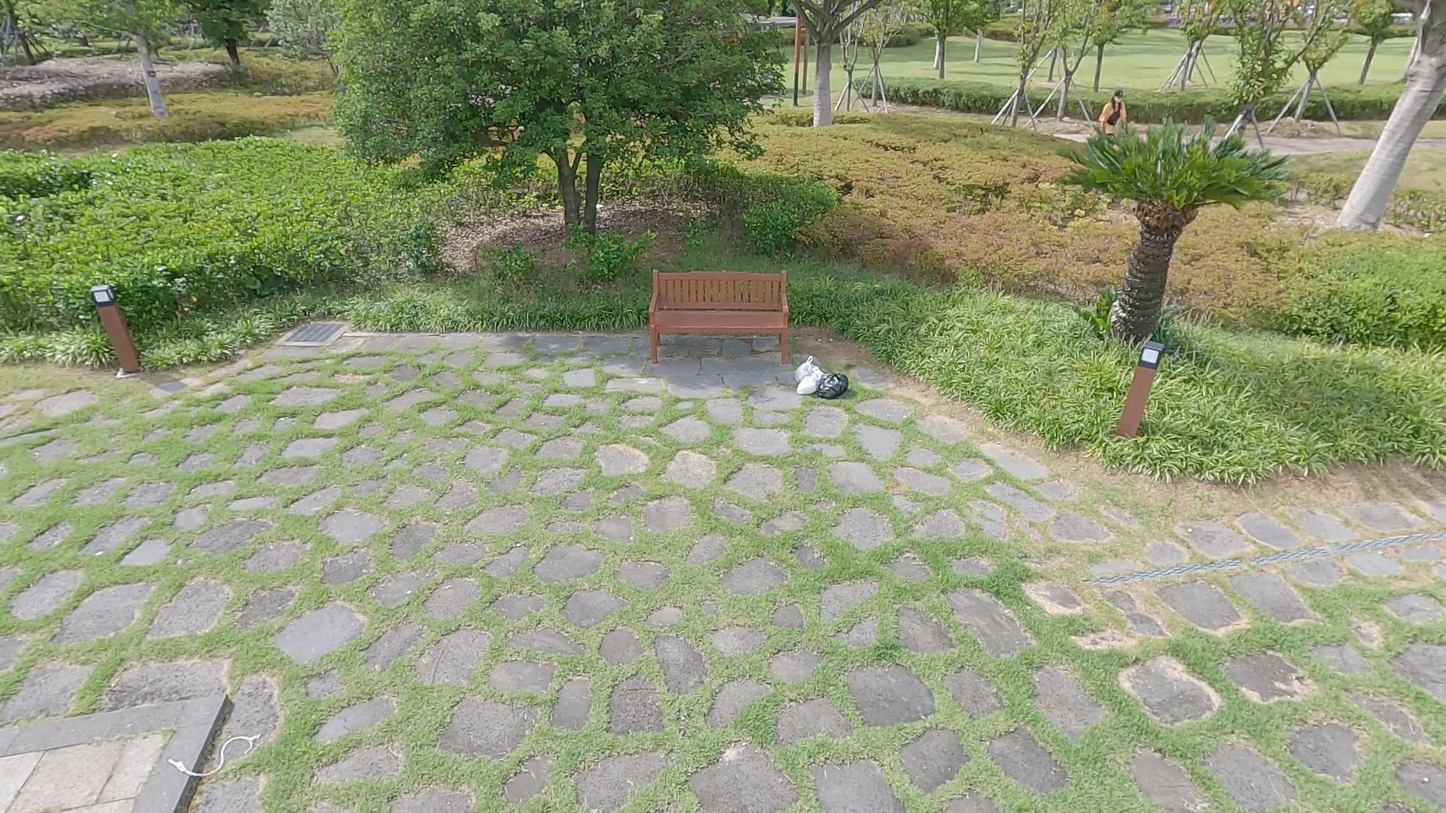person: (1100, 86, 1128, 145)
trash: (817, 371, 850, 399), (793, 355, 823, 383), (797, 370, 821, 396)
